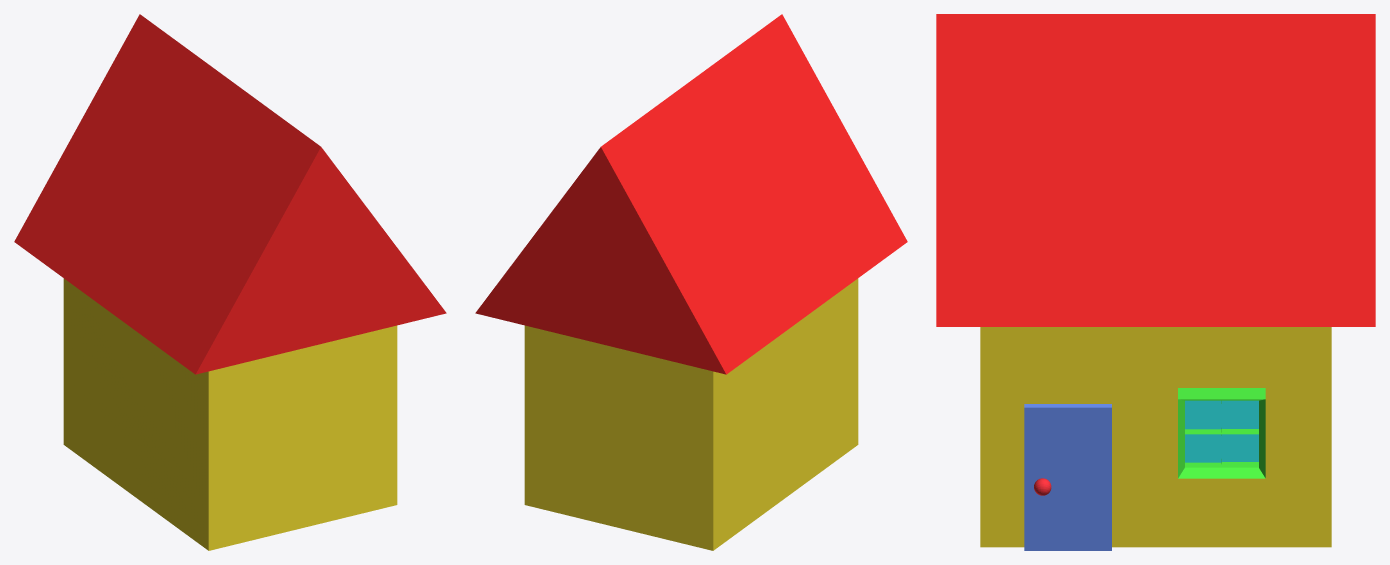
Rendered from ちぐはくんの家.fbx.
3 renders of one model, left to right at view 1: azimuth 30°, elevation 25°; view 2: azimuth 150°, elevation 25°; view 3: azimuth 270°, elevation 25°, orthographic. The views are drawn at different scales.
Visible parts, largest first — view 1: 立方体, Cube; view 2: 立方体, Cube; view 3: 立方体, Cube, 立方体.001, 立方体.002.
Part boxes in pixels (x1,y1,x2,y2): 立方体: [14, 14, 446, 374]; Cube: [63, 278, 397, 550]; 立方体: [475, 14, 907, 374]; Cube: [524, 278, 858, 550]; 立方体: [936, 14, 1375, 326]; Cube: [980, 327, 1331, 547]; 立方体.001: [1024, 404, 1111, 550]; 立方体.002: [1178, 388, 1265, 478].
Bounding box in the file's own units: 800 × 1200 × 1000.
